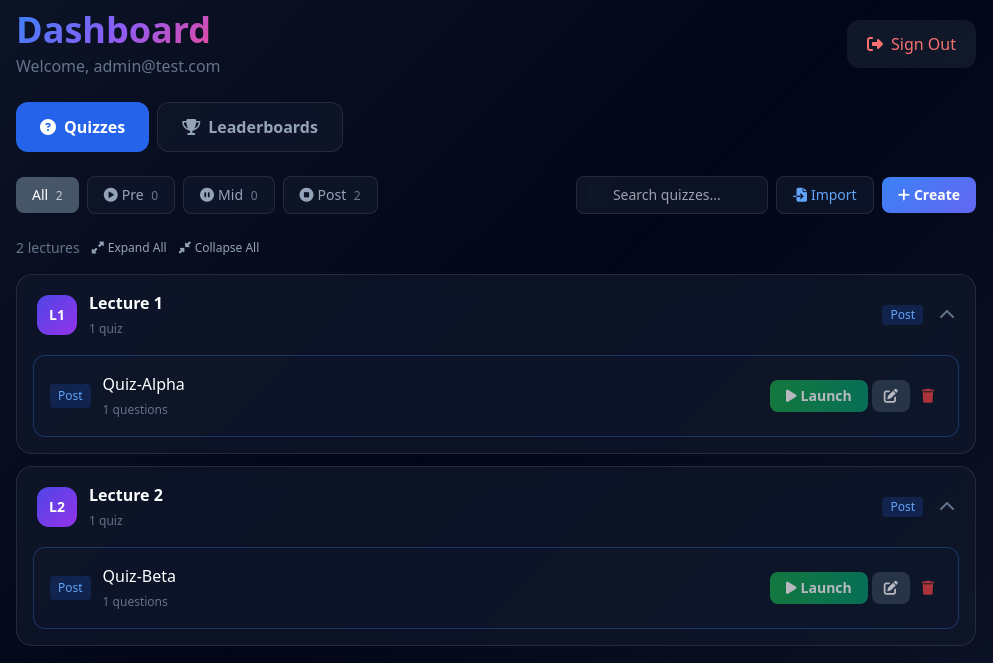
DashboardPage — Collapse All › Expand All re-expands after a collapse
Click the button "Collapse All" at (219, 248), box [179,240,259,256]
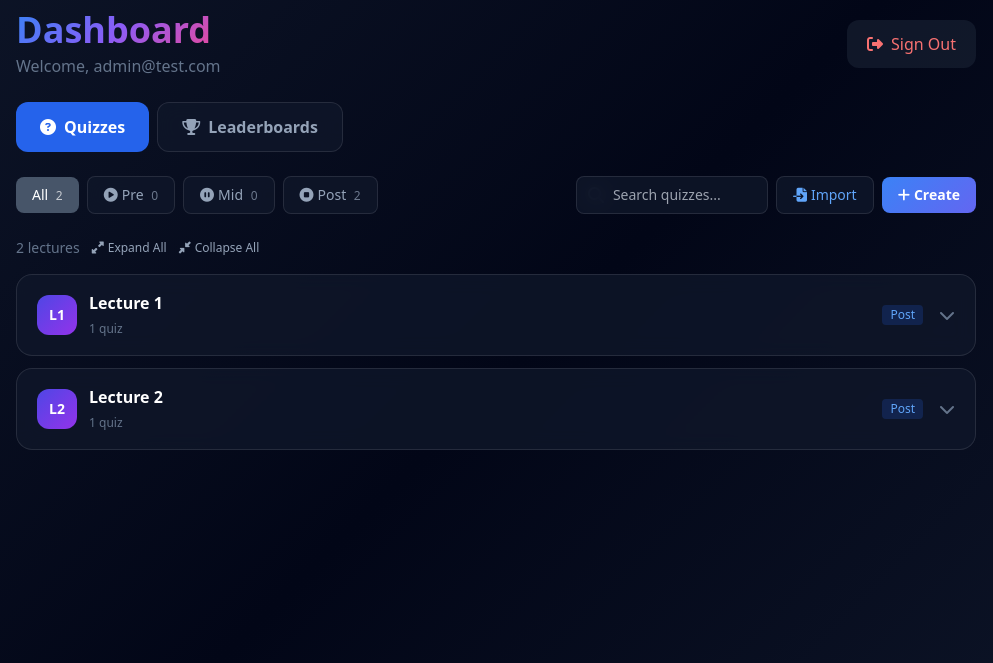
Now the text "Quiz-Alpha" is gone
Click the button "Expand All" at (129, 248), box [92,240,167,256]
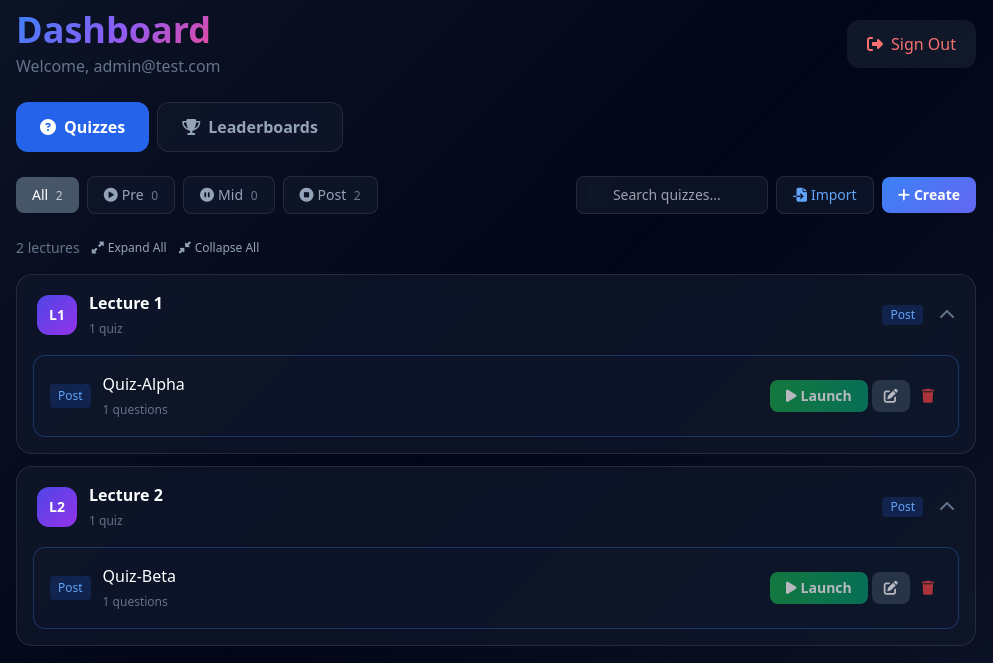
Now the text "Quiz-Alpha" is shown, box [103,372,185,396]
Now the text "Quiz-Beta" is shown, box [103,564,176,588]
